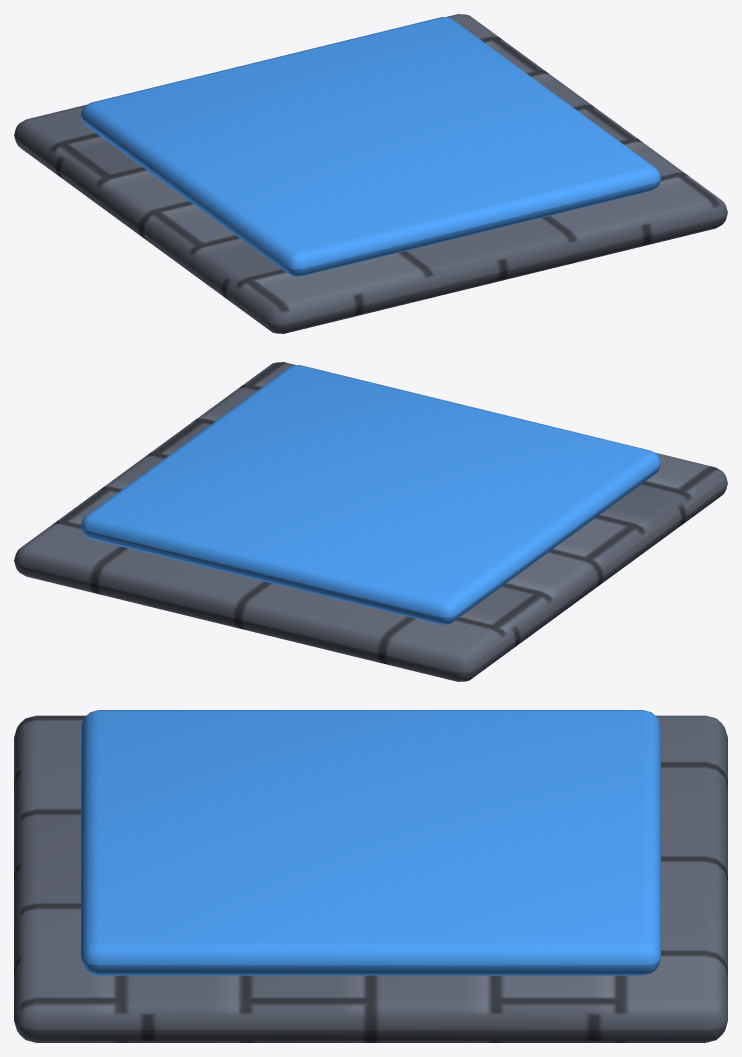
The model's file is PressurePlate.fbx.
3 views of the same model, one above another, from view 1: azimuth 30°, elevation 25°; view 2: azimuth 150°, elevation 25°; view 3: azimuth 270°, elevation 25° (orthographic). The views are drawn at different scales.
Parts seen in each view (by area): view 1: PlateTop, PressurePlate_Body; view 2: PlateTop, PressurePlate_Body; view 3: PlateTop, PressurePlate_Body.
Part boxes in pixels (x1,y1,x2,y2): PlateTop: [81, 17, 660, 276]; PressurePlate_Body: [14, 14, 727, 333]; PlateTop: [81, 365, 660, 624]; PressurePlate_Body: [14, 362, 727, 681]; PlateTop: [81, 710, 660, 975]; PressurePlate_Body: [14, 715, 727, 1042].
Size of the model in its own units: 1.6 by 0.18 by 1.6.
3 materials, 1 textured.
